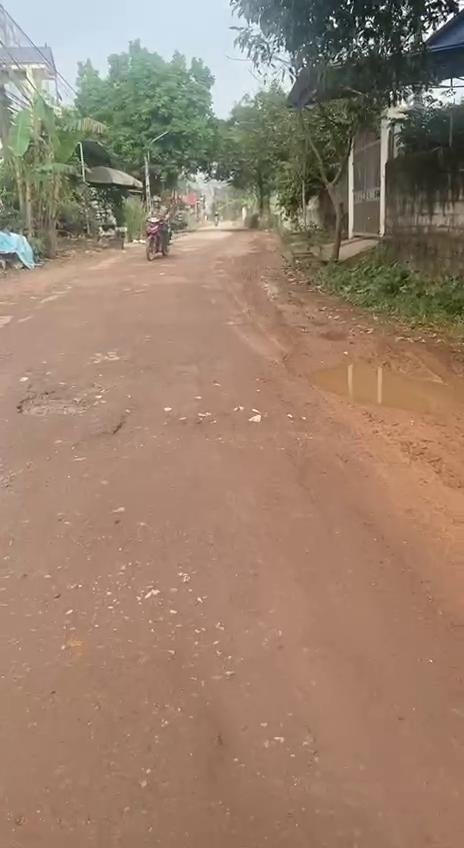pothole: (308, 360, 464, 420), (9, 384, 108, 418)
